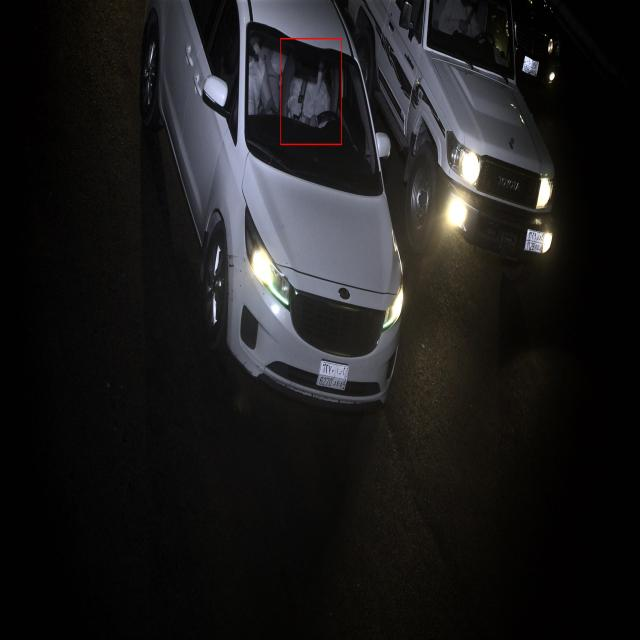windshield: (241, 13, 384, 205), (422, 0, 528, 100)
